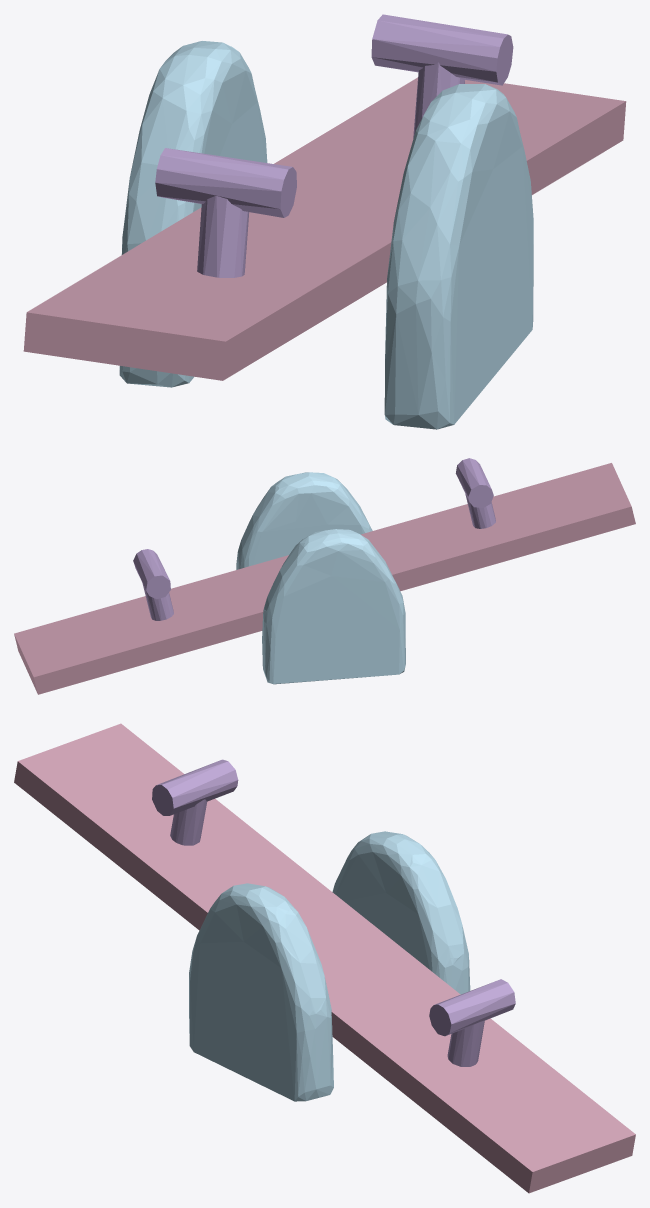
Rendered from qiao2_.glb.
3 renders of one model, top to bottom at view 1: azimuth 30°, elevation 25°; view 2: azimuth 150°, elevation 25°; view 3: azimuth 270°, elevation 25°, orthographic. The views are drawn at different scales.
Parts seen in each view (by area): view 1: Box; view 2: Box; view 3: Box.
Part boxes in pixels (x1,y1,x2,y2): Box: (23, 14, 626, 429); Box: (14, 458, 635, 694); Box: (14, 723, 635, 1193).
Bounding box in the file's own units: 2.42 × 0.83 × 2.18.
